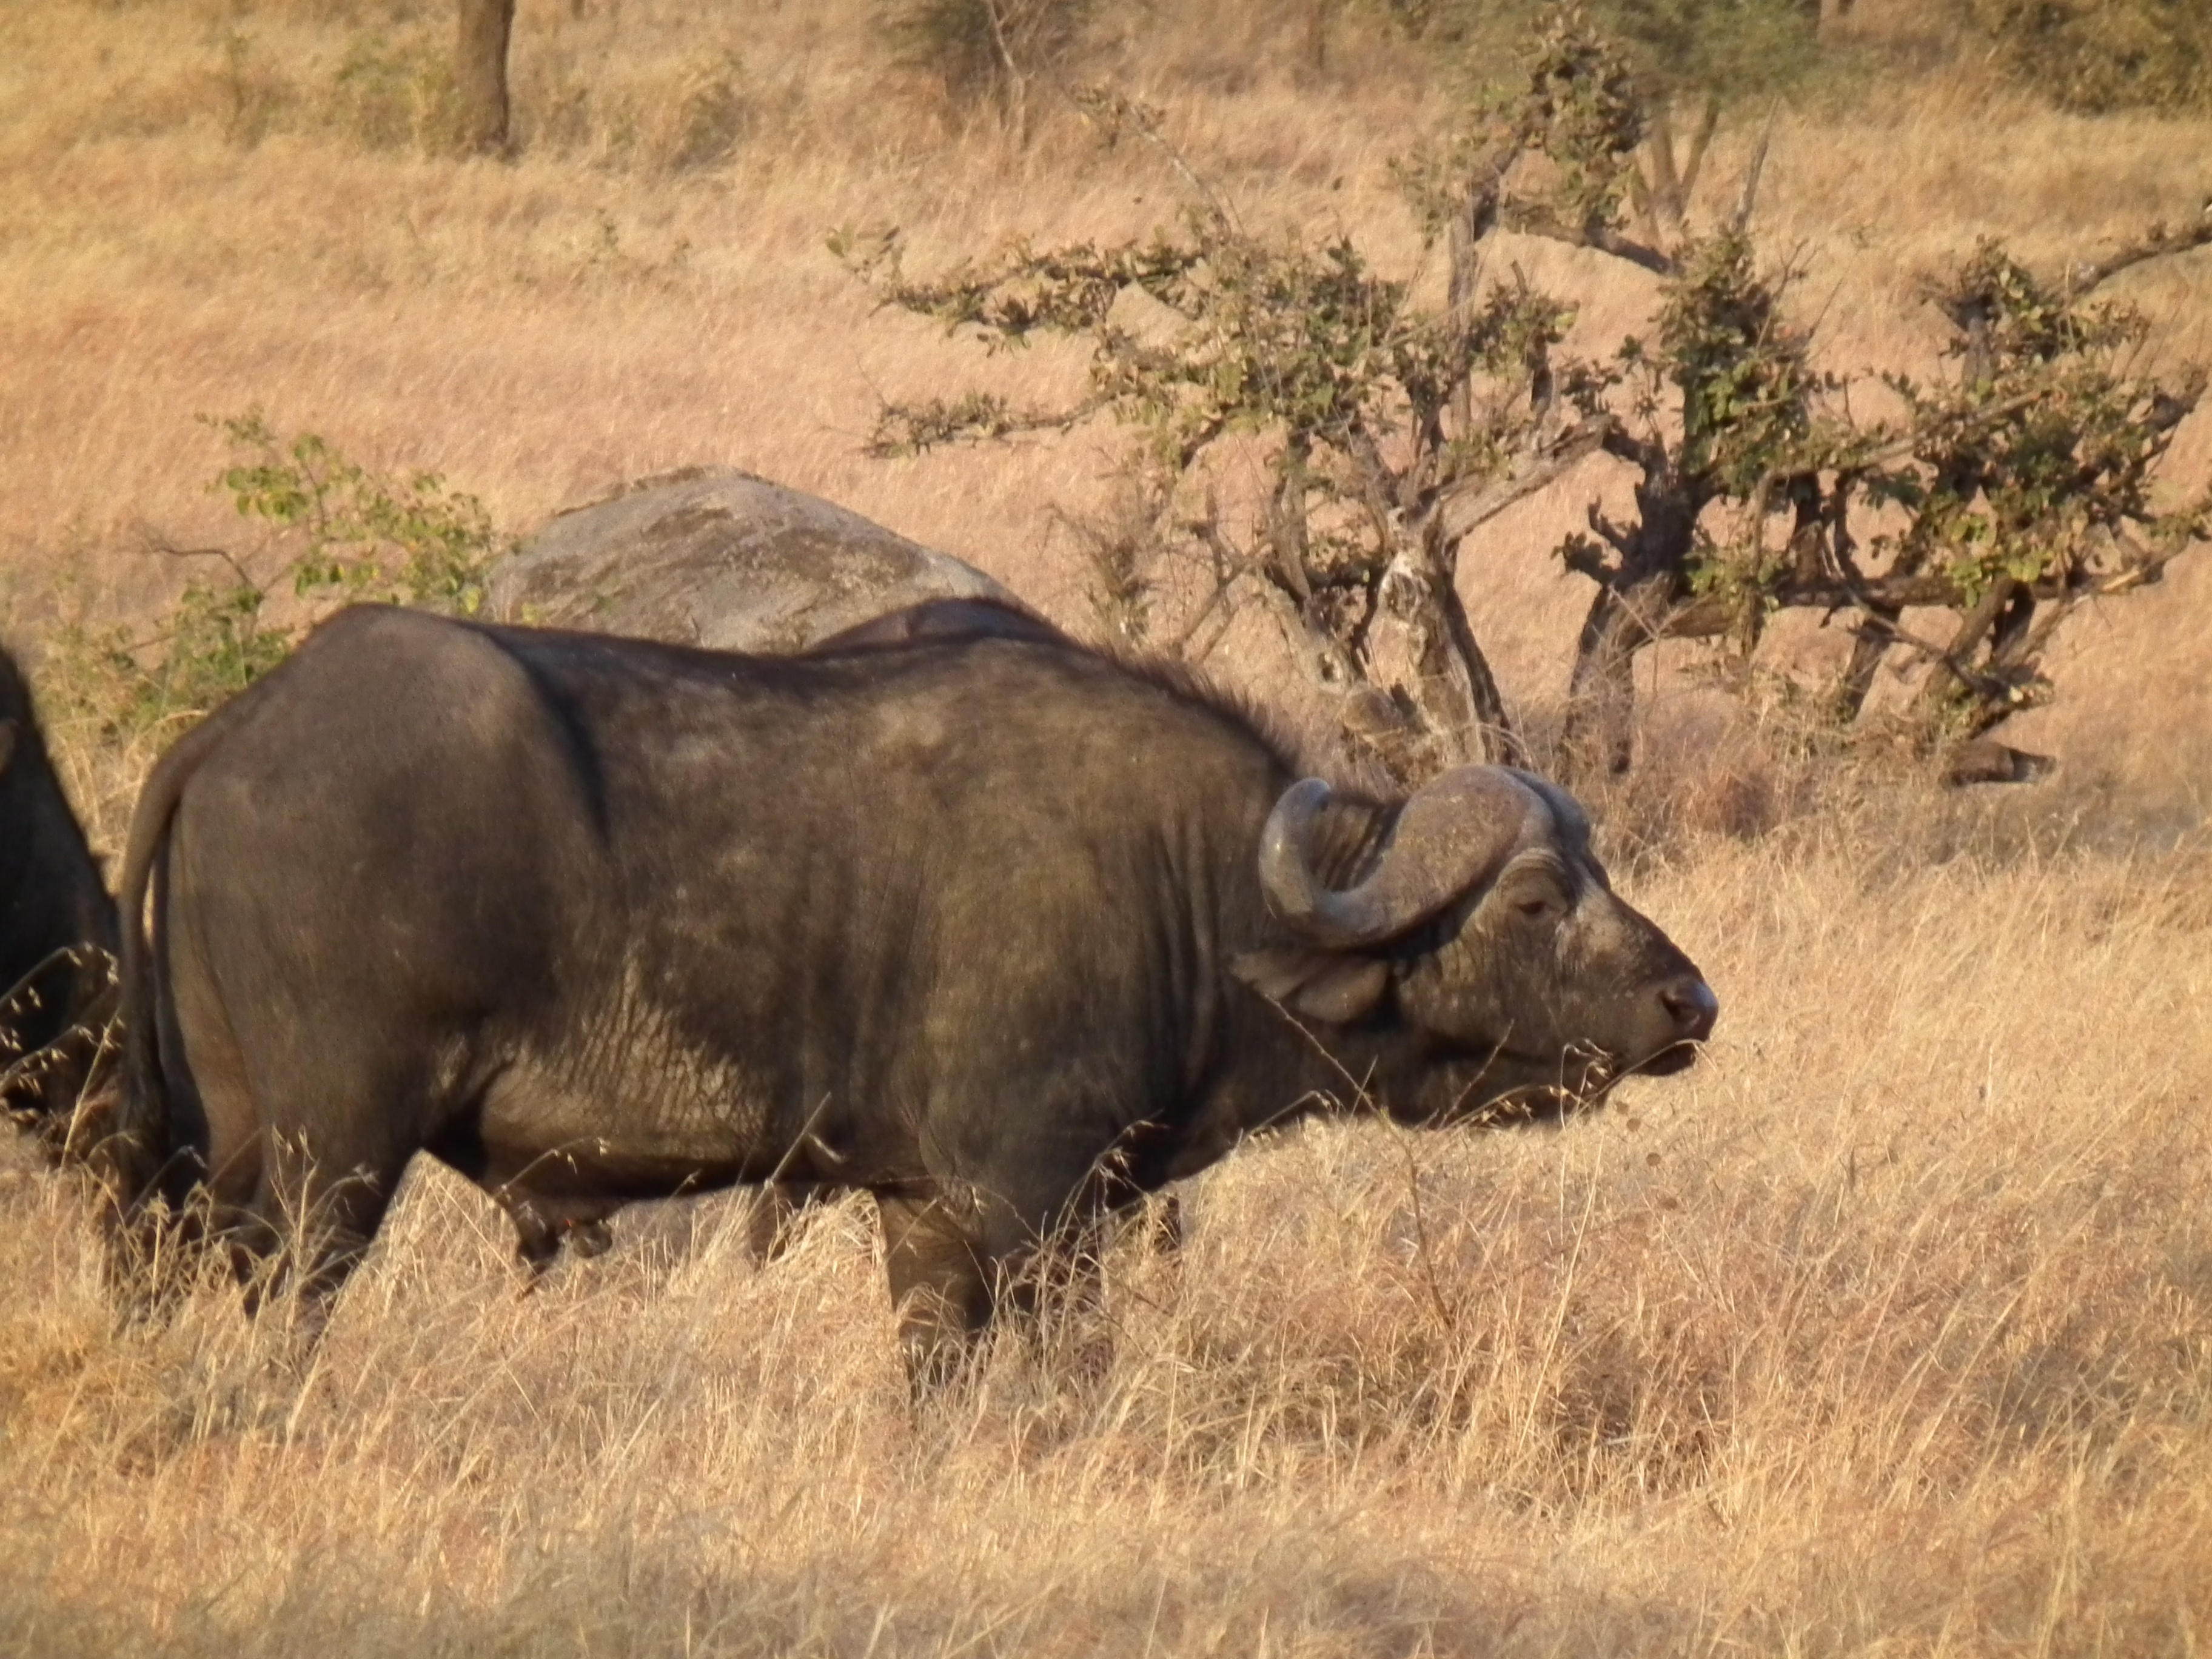buffalo: (113, 603, 1719, 1455)
